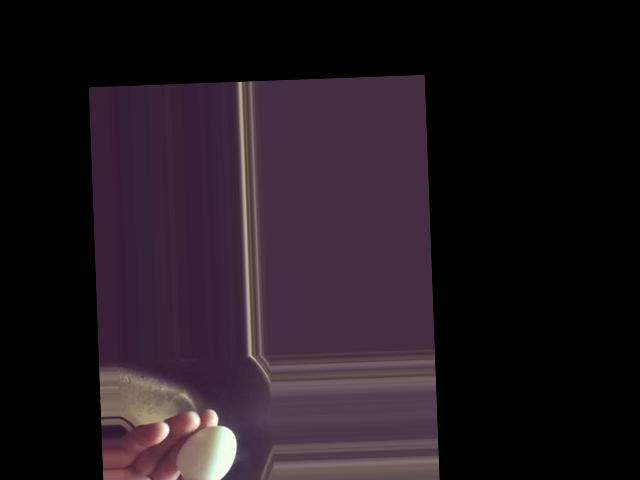egg: (176, 425, 238, 480)
